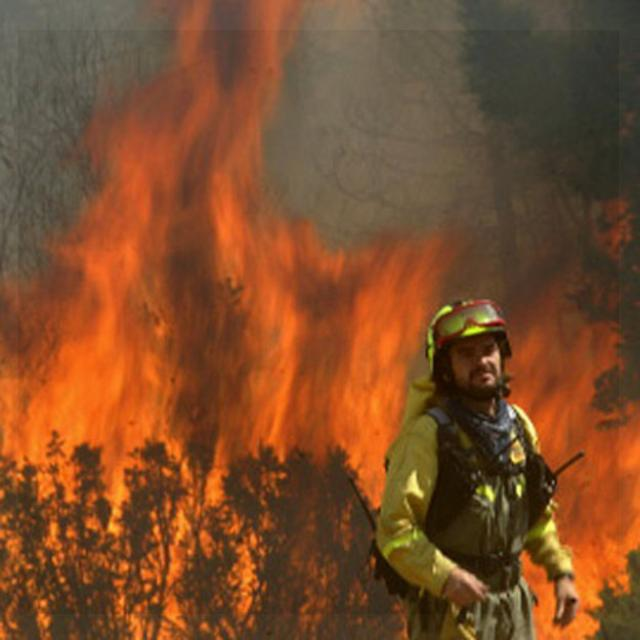Fire: (18, 30, 619, 614)
